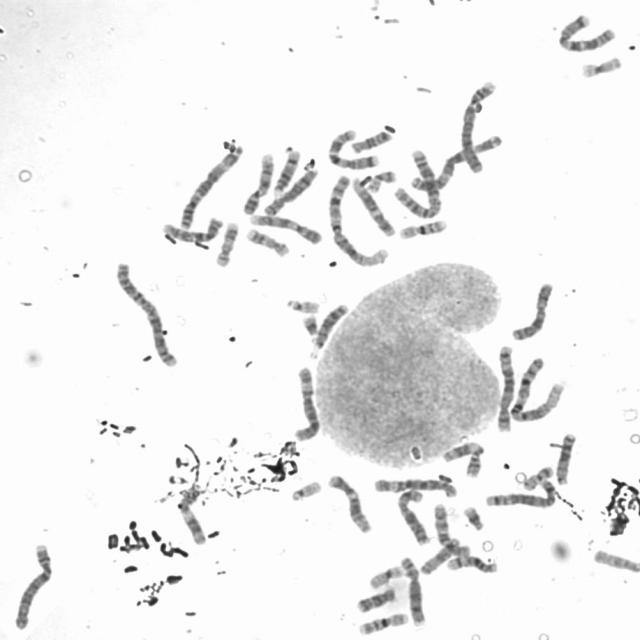A1: (324, 171, 391, 268), (508, 354, 567, 424)
A2: (112, 258, 180, 369), (391, 146, 444, 220)
A3: (175, 140, 246, 231), (407, 131, 504, 192)
B4: (456, 76, 499, 174), (9, 539, 54, 631)
B5: (482, 477, 558, 509), (493, 341, 516, 433)
C10: (430, 500, 472, 559), (159, 214, 224, 244)
C11: (440, 437, 486, 478), (174, 491, 208, 545)
C12: (348, 172, 397, 238), (324, 471, 374, 534)
C6: (290, 364, 322, 443), (370, 474, 458, 498)
C7: (554, 11, 618, 54), (324, 126, 381, 170)
C8: (260, 165, 320, 217), (397, 551, 428, 627)
C9: (247, 210, 325, 246), (240, 150, 276, 216)
D13: (308, 300, 351, 351), (552, 429, 578, 486)
D14: (271, 145, 303, 195), (444, 552, 501, 575)
D15: (416, 534, 463, 576), (590, 546, 640, 573)
E16: (355, 609, 411, 636), (396, 215, 449, 240)
E17: (243, 224, 291, 258), (212, 218, 241, 268)
E18: (353, 583, 398, 614), (348, 126, 394, 154)
F19: (577, 52, 624, 79), (366, 562, 405, 590)
F20: (520, 462, 556, 491), (363, 167, 398, 194)
G21: (460, 502, 486, 532), (300, 311, 320, 337)
G22: (288, 478, 323, 502), (282, 295, 322, 314)
X: (508, 278, 556, 342), (394, 486, 432, 546)
Y: (435, 470, 454, 484)
